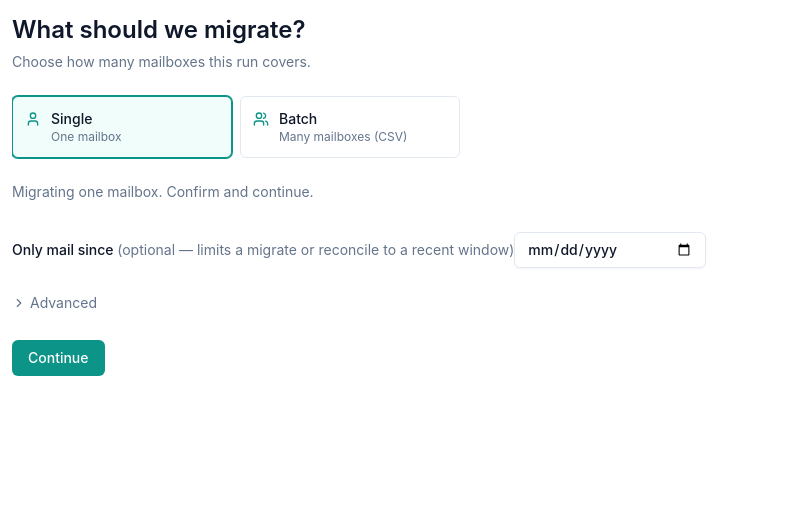
StepScope › disables Continue in batch mode until a valid pair exists
What coordinates should you click on to do the following:
click the button "Batch Many mailboxes (CSV)"
I would click on:
 (350, 127)
Its box is [240,96,460,158].
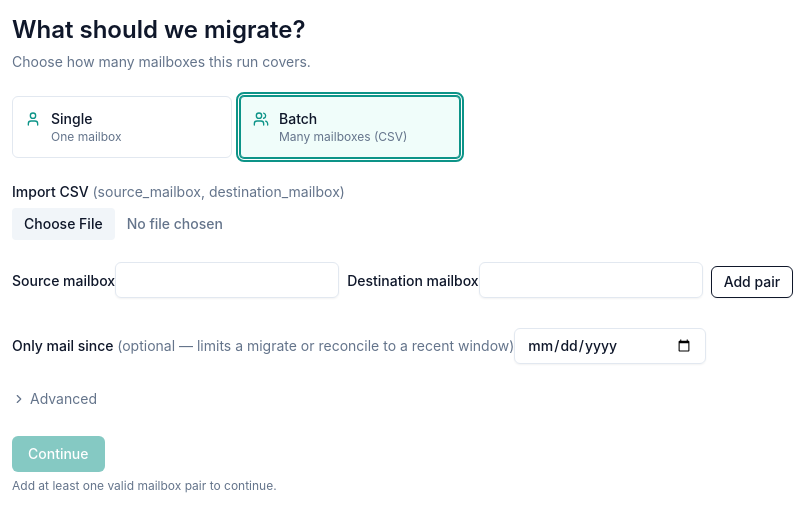
Result: the button "Continue" is disabled at [12,436,104,472]
